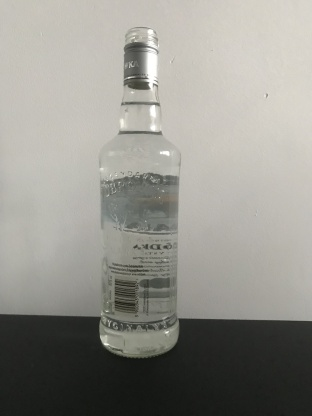nakretka: (121, 24, 160, 91)
